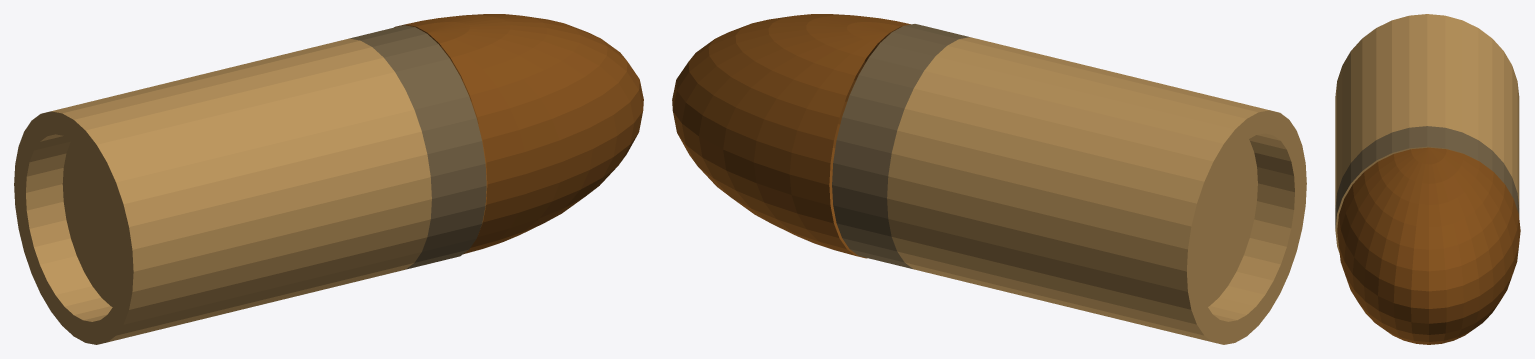
The model's file is bullet.fbx.
3 renders of one model, left to right at view 1: azimuth 30°, elevation 25°; view 2: azimuth 150°, elevation 25°; view 3: azimuth 270°, elevation 25°, orthographic. The views are drawn at different scales.
Parts seen in each view (by area): view 1: chambre, head, Cylinder; view 2: chambre, head, Cylinder; view 3: head, chambre, Cylinder.
Part boxes in pixels (bbox=[...]): chambre: bbox=[14, 38, 431, 344]; head: bbox=[394, 14, 643, 254]; Cylinder: bbox=[349, 25, 486, 269]; chambre: bbox=[887, 37, 1306, 344]; head: bbox=[672, 14, 910, 258]; Cylinder: bbox=[832, 24, 969, 268]; head: bbox=[1337, 147, 1520, 344]; chambre: bbox=[1335, 14, 1519, 252]; Cylinder: bbox=[1335, 126, 1519, 228].
Bounding box in the file's own units: 46.75 × 17.18 × 17.3.
